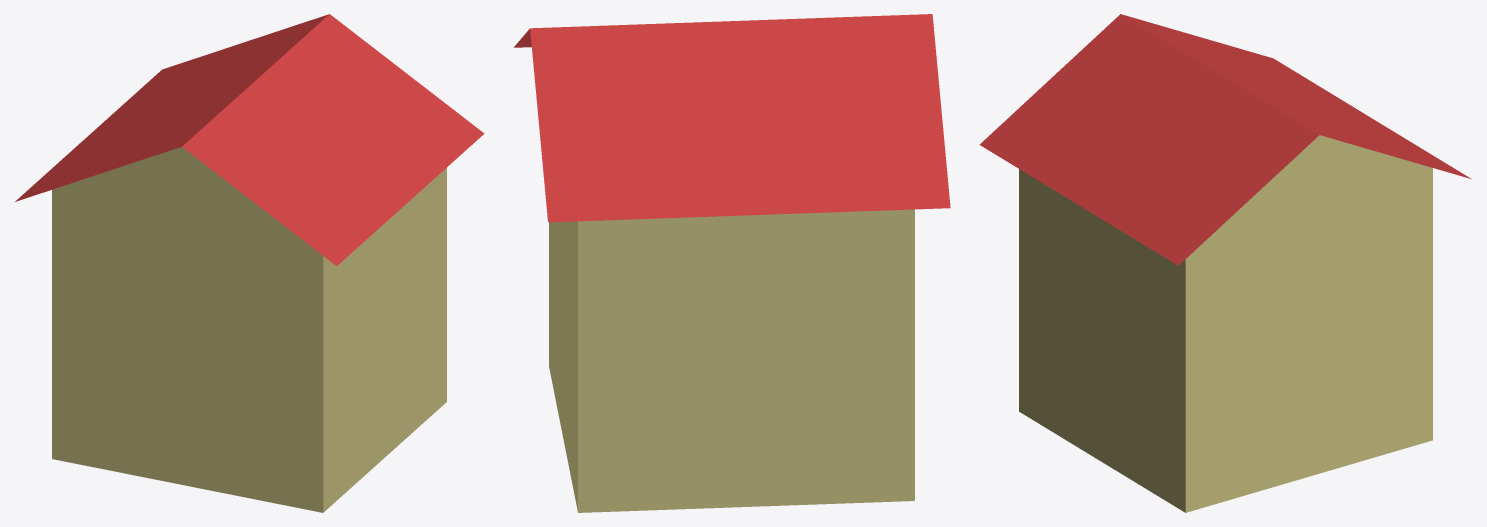
3 renders of one model, left to right at view 1: azimuth 30°, elevation 25°; view 2: azimuth 150°, elevation 25°; view 3: azimuth 270°, elevation 25°, orthographic. The views are drawn at different scales.
Bounding box in the file's own units: 8.64 × 8.68 × 6.86.
